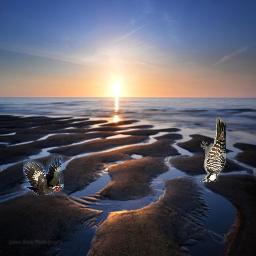Woodpecker: (200, 116, 226, 182), (24, 155, 65, 196)
